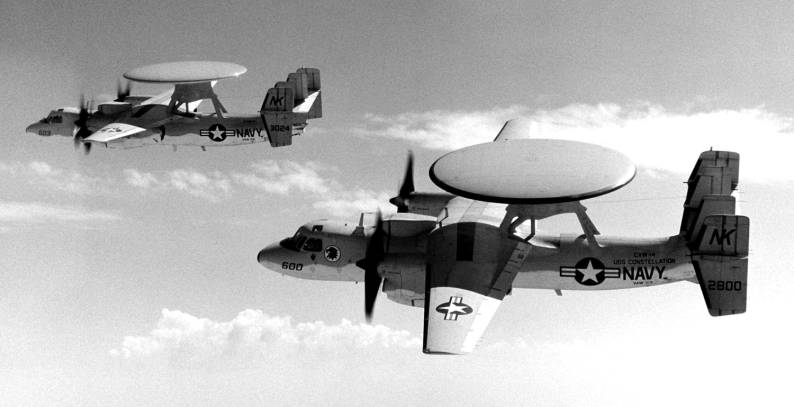E2: (256, 116, 751, 357), (25, 61, 323, 157)
